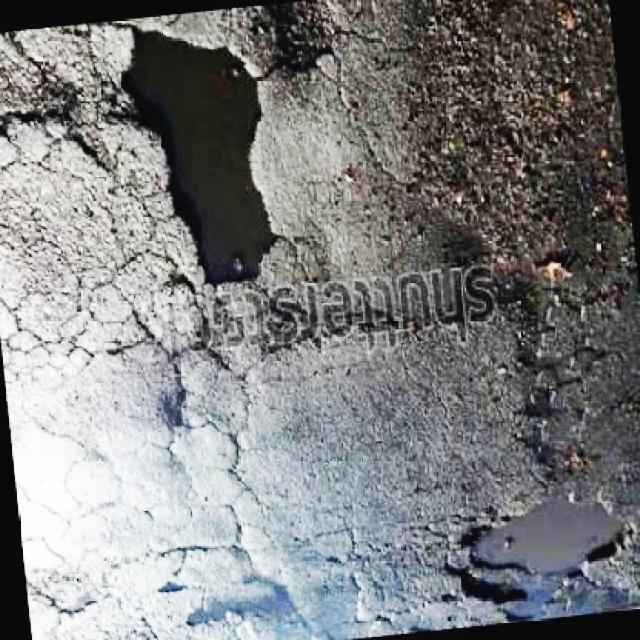pothole: (100, 26, 295, 291), (516, 285, 612, 477), (2, 34, 109, 180), (462, 486, 632, 572), (136, 329, 216, 438)
